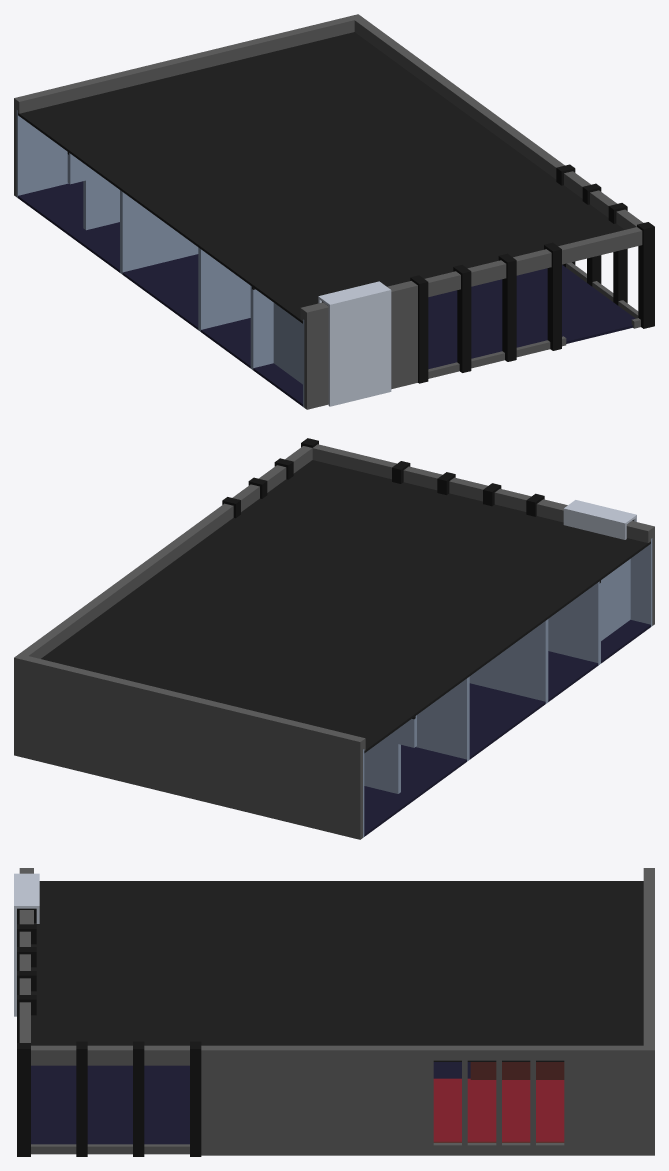
The model's file is StartupOfficeB1.obj.
3 renders of one model, top to bottom at view 1: azimuth 30°, elevation 25°; view 2: azimuth 150°, elevation 25°; view 3: azimuth 270°, elevation 25°, orthographic. The views are drawn at different scales.
Bounding box in the file's own units: 15.3 × 4.3 × 22.6.
1 material, 1 textured.
